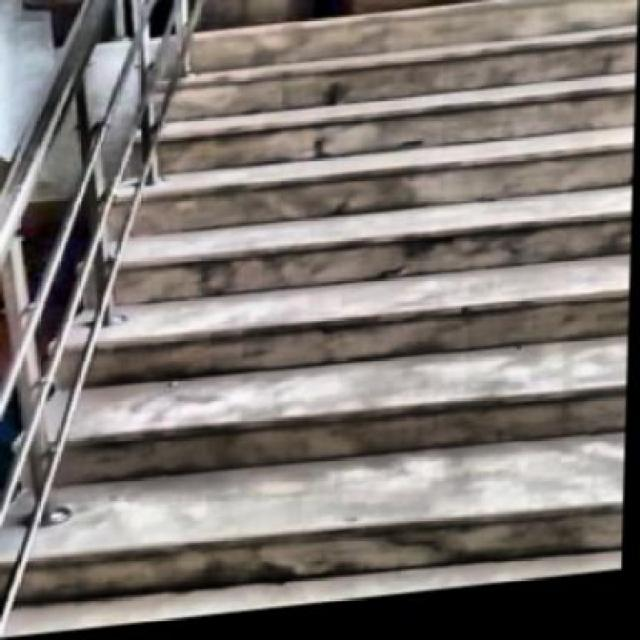stair: (41, 0, 637, 634)
